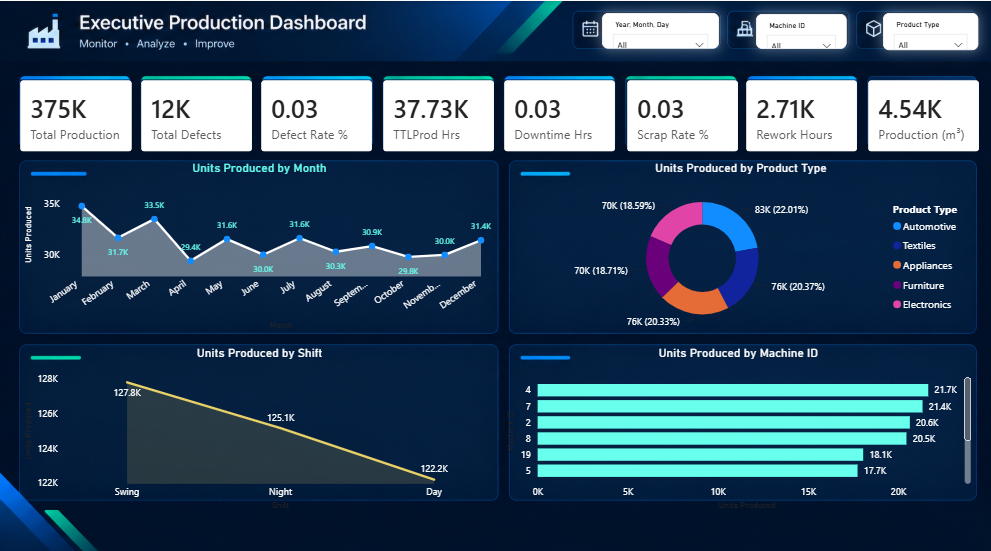

Layout of this report page (visuals, bound fields, positions):
{"tool":"powerbi","page":{"name":"Page 1","canvas":[1280,720],"ordinal":0},"visuals":[{"type":"cardVisual","fields":{"Data":["Manufacturing Dataset.Total Production"]},"box":[9,85,178,126],"z":0},{"type":"cardVisual","fields":{"Data":["Manufacturing Dataset.Total Defects"]},"box":[165,85,177.3,126],"z":1000},{"type":"cardVisual","fields":{"Data":["Manufacturing Dataset.Defect Rate %"]},"box":[320,85,177.3,126],"z":2000},{"type":"cardVisual","fields":{"Data":["Manufacturing Dataset.Total Production Hours"]},"box":[478,85,177.3,126.4],"z":3000},{"type":"cardVisual","fields":{"Data":["Manufacturing Dataset.Total Downtime Hours"]},"box":[633.6,84.5,177.3,126.4],"z":4000},{"type":"cardVisual","fields":{"Data":["Manufacturing Dataset.Total Scrap Rate %"]},"box":[792,85,177.3,126.4],"z":5000},{"type":"cardVisual","fields":{"Data":["Manufacturing Dataset.Total Rework Hours"]},"box":[945.7,85.7,177.3,126.4],"z":6000},{"type":"cardVisual","fields":{"Data":["Manufacturing Dataset.Production Volume (m³)"]},"box":[1103,85,177.3,126.4],"z":7000},{"type":"lineChart","fields":{"Category":["Manufacturing Dataset.Date.Variation.Date Hierarchy.Month"],"Y":["Sum(Manufacturing Dataset.Units Produced)"]},"box":[25.7,205.7,618.6,224.3],"z":8000},{"type":"donutChart","fields":{"Category":["Manufacturing Dataset.Product Type"],"Y":["Sum(Manufacturing Dataset.Units Produced)"]},"box":[655.7,205.7,601.4,224.3],"z":9000},{"type":"areaChart","fields":{"Category":["Manufacturing Dataset.Shift"],"Y":["Sum(Manufacturing Dataset.Units Produced)"]},"box":[25.7,444.3,618.6,217.1],"z":10000},{"type":"barChart","fields":{"Category":["Manufacturing Dataset.Machine ID"],"Y":["Sum(Manufacturing Dataset.Units Produced)"]},"box":[647.1,444.3,610,217.1],"z":11000},{"type":"slicer","fields":{"Values":["Manufacturing Dataset.Date.Variation.Date Hierarchy.Year","Manufacturing Dataset.Date.Variation.Date Hierarchy.Month","Manufacturing Dataset.Date.Variation.Date Hierarchy.Day"]},"box":[776.8,15.6,151.2,46],"z":12000},{"type":"slicer","fields":{"Values":["Manufacturing Dataset.Machine ID"]},"box":[976.1,16.8,116.8,45],"z":12001},{"type":"slicer","fields":{"Values":["Manufacturing Dataset.Product Type"]},"box":[1139.6,15,122.5,48.2],"z":12002}]}

Visuals, with their boxes in screenshot pixels (x1, y1, x2, y2), scaled from the page's 1280x720 canvas onto the 991x551 screenshot:
cardVisual - Manufacturing Dataset.Total Production: 7/65/145/161
cardVisual - Manufacturing Dataset.Total Defects: 128/65/265/161
cardVisual - Manufacturing Dataset.Defect Rate %: 248/65/385/161
cardVisual - Manufacturing Dataset.Total Production Hours: 370/65/507/162
cardVisual - Manufacturing Dataset.Total Downtime Hours: 491/65/628/161
cardVisual - Manufacturing Dataset.Total Scrap Rate %: 613/65/750/162
cardVisual - Manufacturing Dataset.Total Rework Hours: 732/66/869/162
cardVisual - Manufacturing Dataset.Production Volume (m³): 854/65/990/162
lineChart - Manufacturing Dataset.Date.Variation.Date Hierarchy.Month x Sum(Manufacturing Dataset.Units Produced): 20/157/499/329
donutChart - Manufacturing Dataset.Product Type x Sum(Manufacturing Dataset.Units Produced): 508/157/973/329
areaChart - Manufacturing Dataset.Shift x Sum(Manufacturing Dataset.Units Produced): 20/340/499/506
barChart - Manufacturing Dataset.Machine ID x Sum(Manufacturing Dataset.Units Produced): 501/340/973/506
slicer - Manufacturing Dataset.Date.Variation.Date Hierarchy.Year x Manufacturing Dataset.Date.Variation.Date Hierarchy.Month: 601/12/718/47
slicer - Manufacturing Dataset.Machine ID: 756/13/846/47
slicer - Manufacturing Dataset.Product Type: 882/11/977/48
